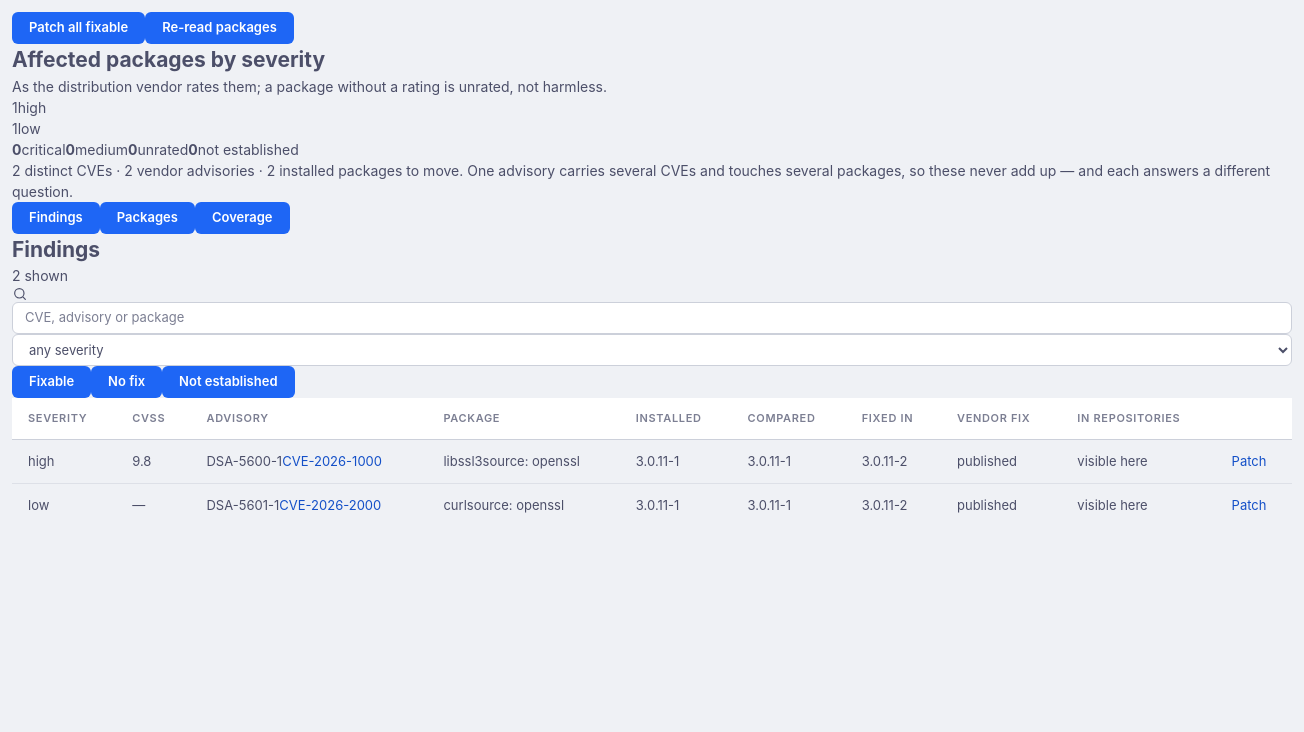
what the vendor says about this host › narrows the list by what is typed, and by what the vendor rated it
Expected: the number of rows is 3, left=12, top=398, right=1292, bottom=439; left=12, top=439, right=1292, bottom=484; left=12, top=484, right=1292, bottom=528
In the field with test id "search": {"x": 652, "y": 318} left=12, top=302, right=1292, bottom=334, type "curl"
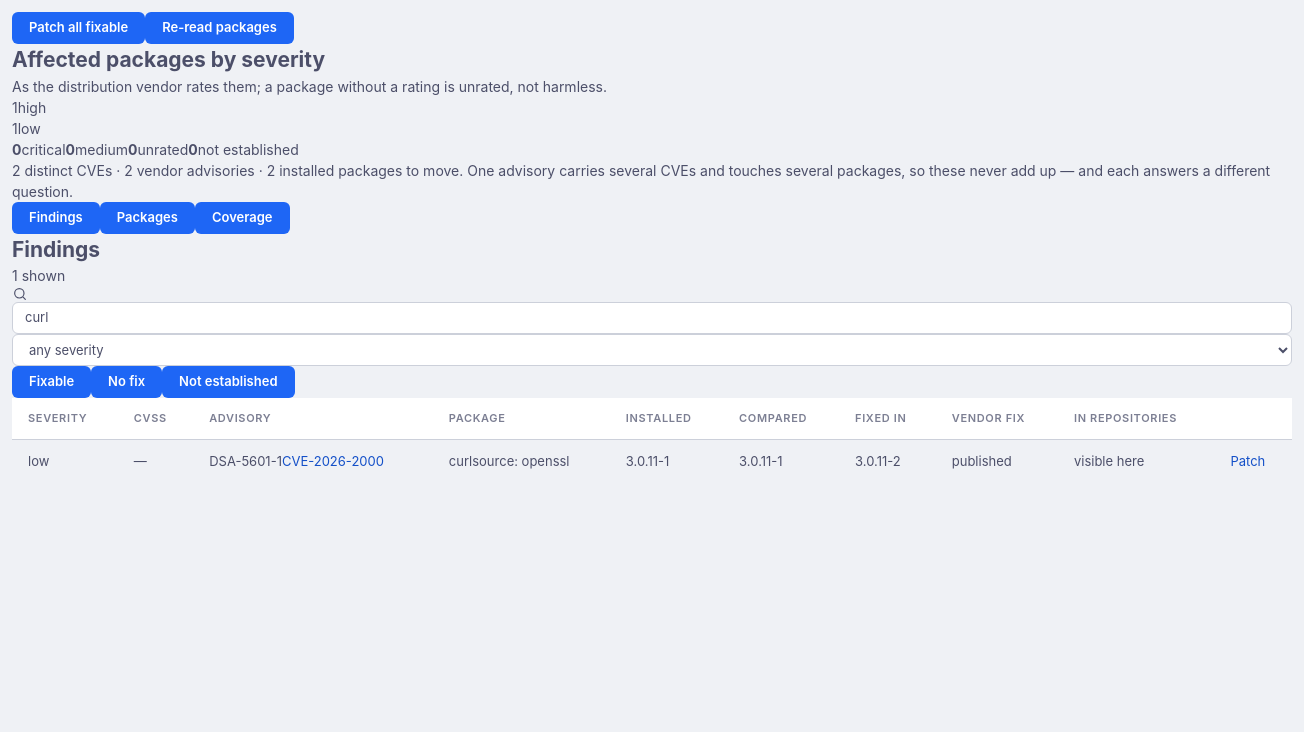
Now the number of rows is 2, box left=12, top=398, right=1292, bottom=439; left=12, top=439, right=1292, bottom=483
Clear the field with test id "search": {"x": 652, "y": 318} left=12, top=302, right=1292, bottom=334
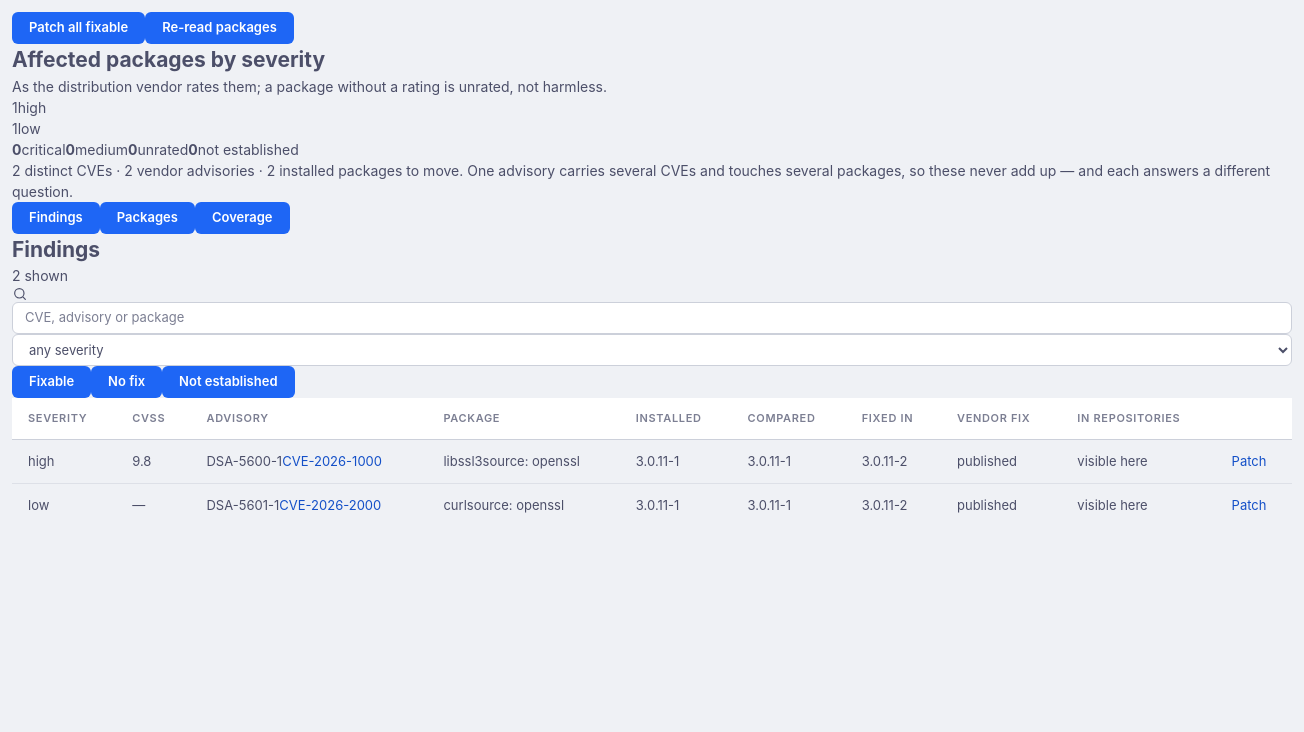
Select "low" in the dropdown with test id "severity": {"x": 652, "y": 350} left=12, top=334, right=1292, bottom=366
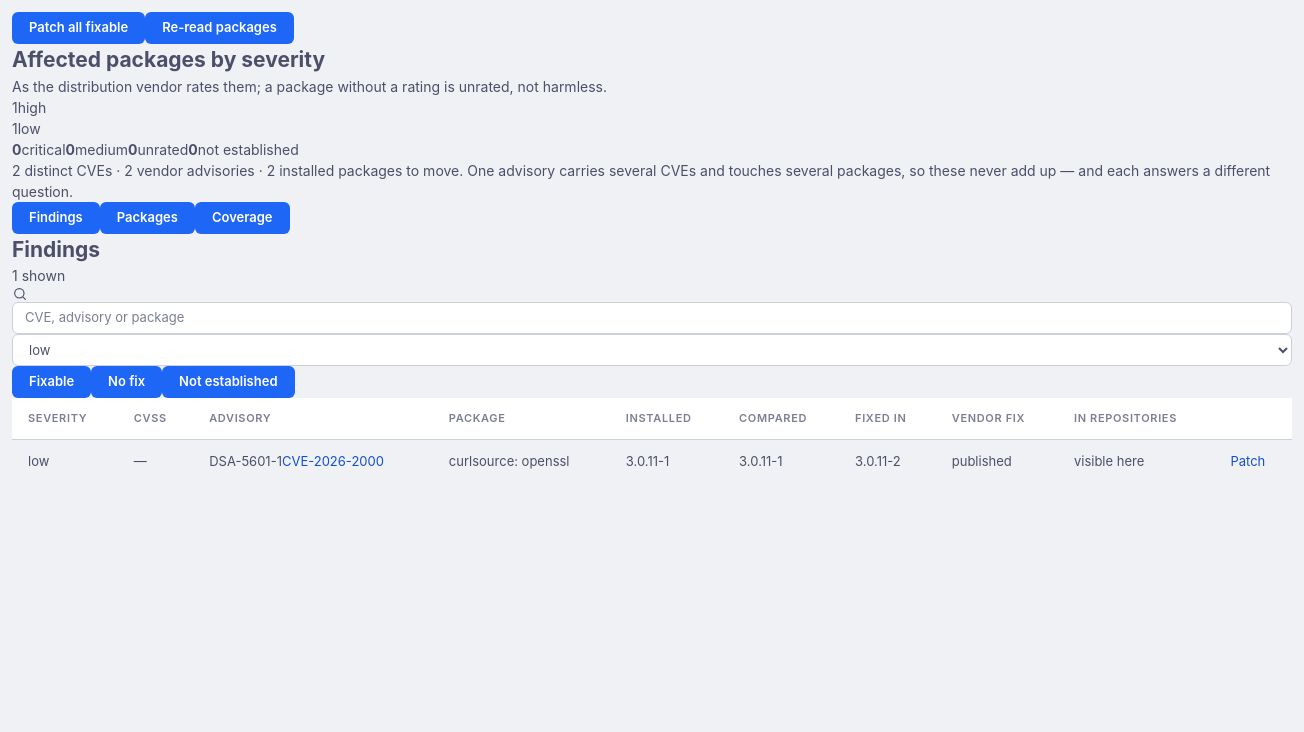
Expected: the table with test id "findings" shows "curl", left=449, top=452, right=472, bottom=468
Now the number of rows is 2, box left=12, top=398, right=1292, bottom=439; left=12, top=439, right=1292, bottom=483
